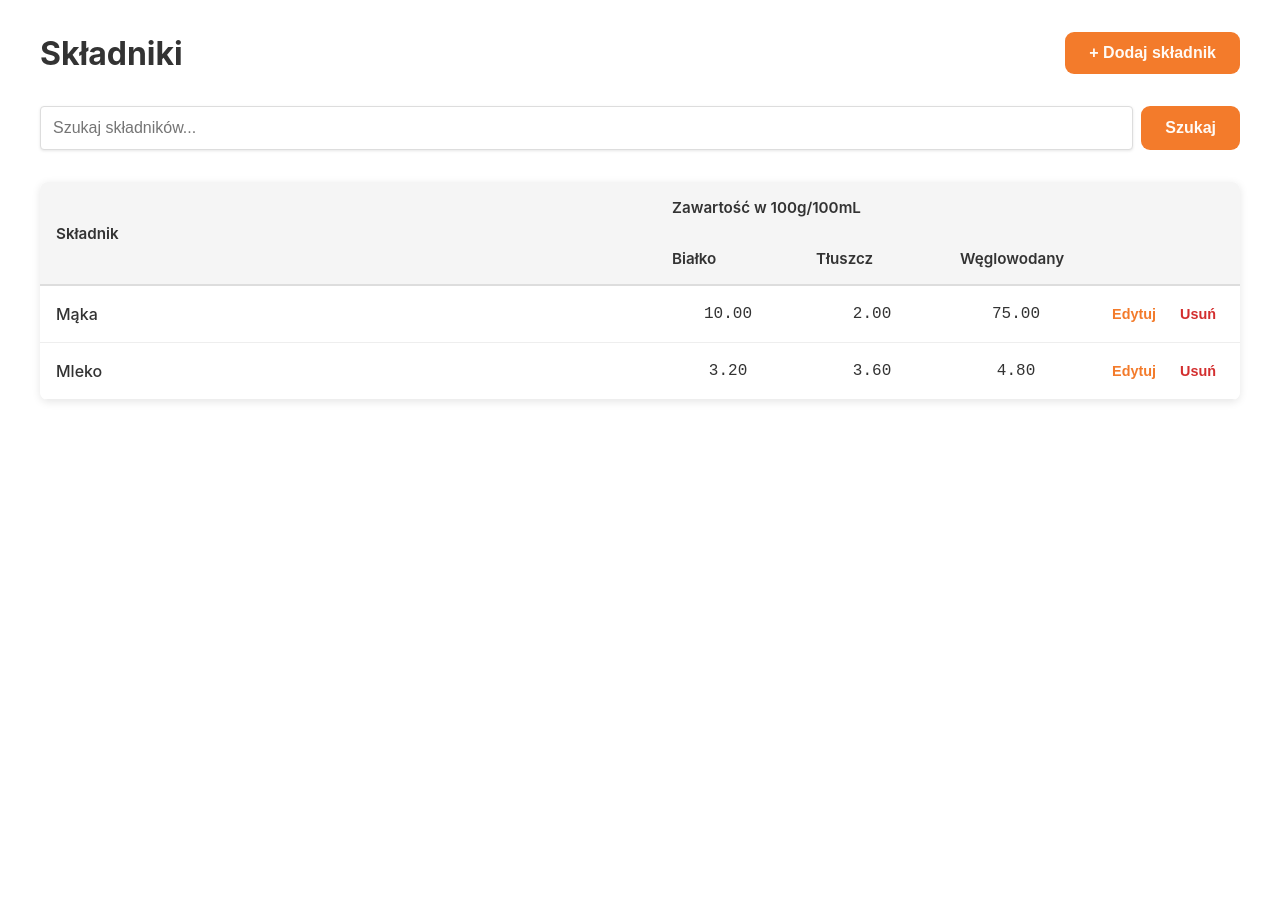
Test case: IngredientsPage › uses cancel label in delete confirmation dialog
Click the button "Usuń" in the row of "Mąka" at (1198, 314), box 1172,302 -> 1224,326
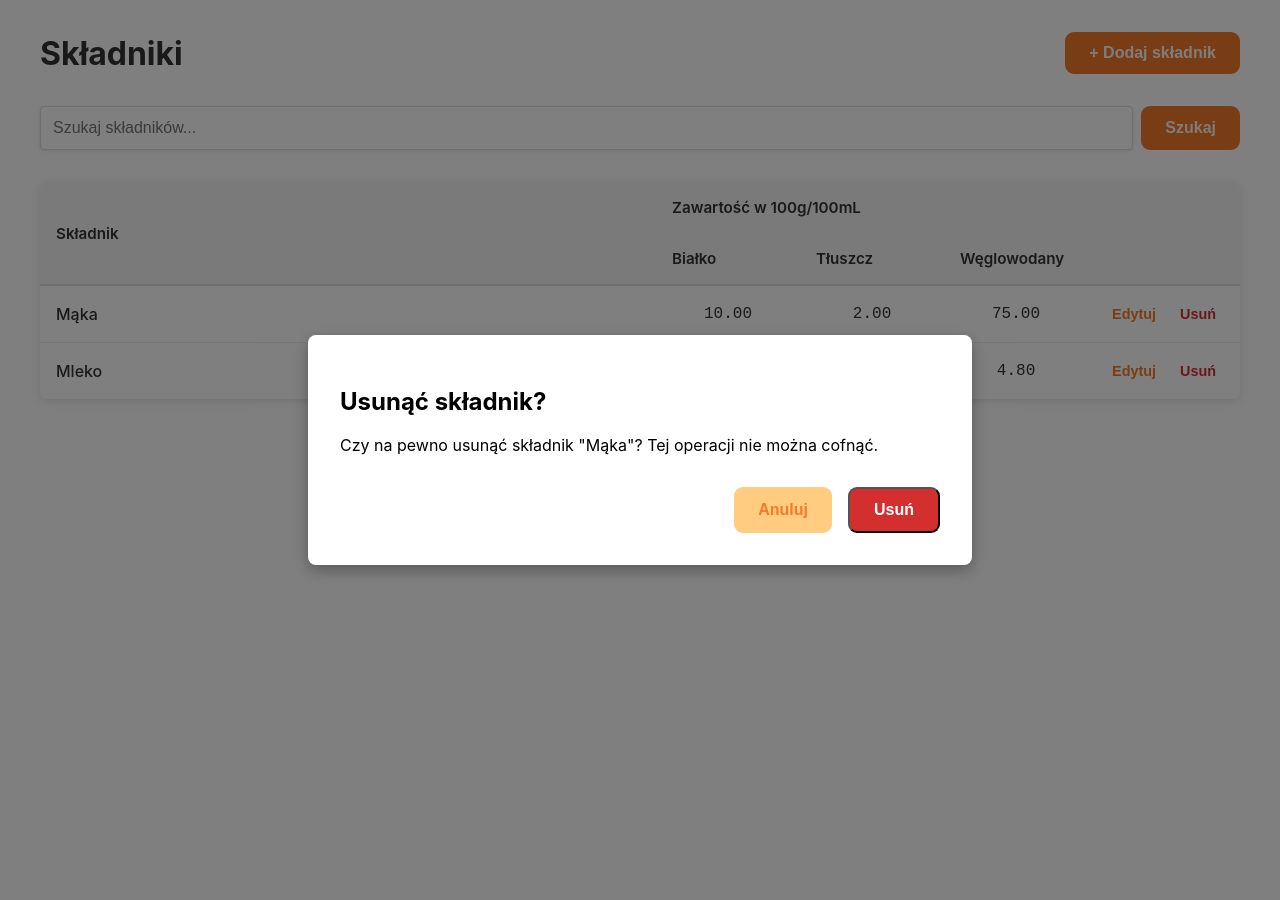
Expected: the button "Anuluj" is shown, 734,487 -> 832,533
